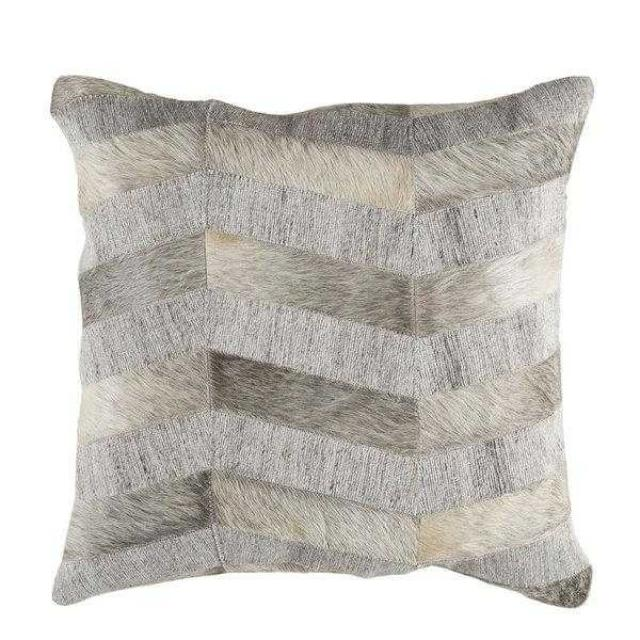pillow: (48, 71, 596, 608)
